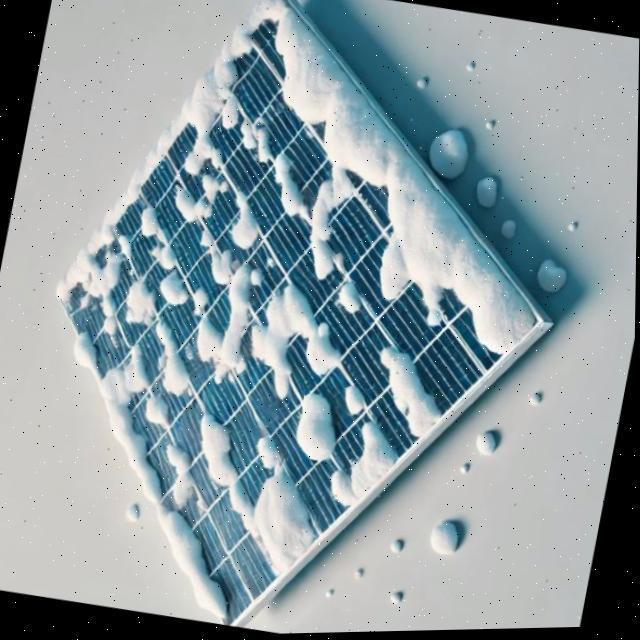Anomaly Solar Panel: (0, 0, 566, 626)
Snow: (176, 7, 542, 420), (46, 0, 318, 345), (70, 313, 233, 623), (183, 391, 329, 584), (173, 227, 268, 388), (231, 277, 347, 405), (231, 107, 318, 233), (321, 419, 409, 518), (368, 338, 448, 444), (155, 442, 210, 523), (166, 162, 230, 228), (150, 314, 191, 402), (294, 394, 342, 463), (227, 188, 261, 251), (123, 278, 158, 326), (155, 270, 193, 310), (332, 283, 361, 318), (142, 395, 166, 430), (188, 285, 211, 316), (149, 246, 176, 271), (344, 387, 365, 415), (138, 209, 158, 238)
